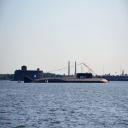submarine: (25, 74, 111, 83)
